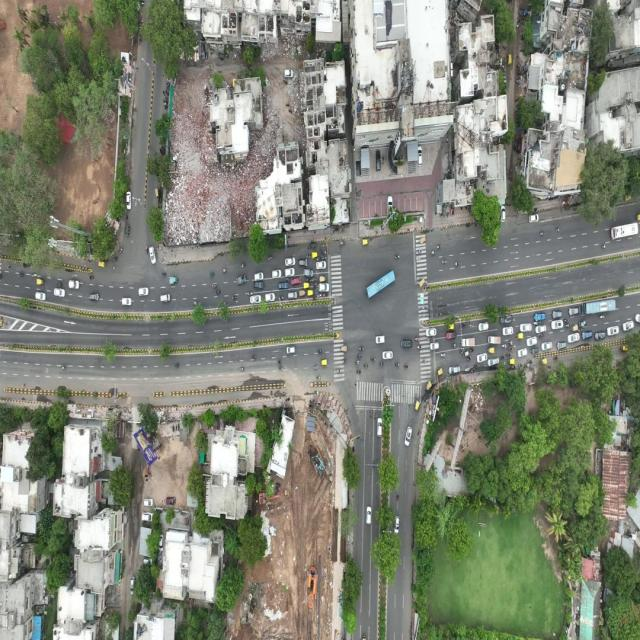3W: (36, 276, 45, 286), (360, 236, 369, 246), (168, 276, 177, 286), (425, 380, 432, 392), (486, 346, 496, 354), (320, 357, 328, 367), (154, 187, 160, 200), (515, 332, 524, 340), (414, 400, 420, 412), (125, 224, 130, 237), (570, 324, 578, 332), (97, 260, 106, 267), (340, 343, 347, 352), (437, 367, 444, 376), (419, 235, 426, 244), (579, 321, 588, 328), (619, 345, 628, 352), (507, 358, 515, 365), (530, 347, 538, 354), (302, 282, 310, 289), (319, 275, 326, 283), (539, 358, 548, 364), (419, 278, 425, 287), (307, 289, 314, 296), (298, 290, 306, 296), (312, 252, 318, 260), (310, 243, 317, 249), (448, 324, 454, 329)
Bus: (366, 270, 395, 298), (580, 298, 616, 315), (610, 222, 639, 242)
Cars: (404, 424, 413, 447), (499, 313, 513, 325), (125, 190, 132, 212), (149, 245, 156, 266), (499, 205, 506, 226), (568, 332, 580, 344), (236, 273, 247, 286), (606, 325, 619, 336), (138, 286, 151, 297), (375, 334, 386, 346), (622, 320, 634, 331), (528, 213, 540, 224), (381, 350, 394, 360), (423, 327, 436, 337), (487, 357, 500, 367), (533, 312, 546, 322), (366, 505, 372, 526), (518, 323, 532, 332), (476, 352, 487, 363), (318, 282, 330, 292), (250, 294, 262, 304), (400, 338, 412, 348), (448, 364, 460, 374), (478, 320, 488, 332), (502, 326, 514, 336), (526, 336, 538, 346), (568, 306, 580, 316), (160, 294, 172, 304), (550, 320, 563, 329), (517, 348, 528, 358), (582, 330, 593, 340), (54, 288, 65, 298), (284, 257, 296, 266), (264, 293, 276, 302), (302, 268, 314, 277), (551, 310, 563, 319), (541, 341, 553, 350), (594, 331, 606, 340), (68, 279, 80, 288), (89, 292, 101, 301), (35, 291, 47, 300), (377, 416, 382, 437), (272, 269, 282, 279), (254, 271, 264, 281), (298, 258, 308, 268), (286, 345, 296, 355), (394, 514, 399, 534), (556, 340, 566, 350), (121, 296, 131, 306), (284, 268, 295, 277), (291, 276, 302, 285), (446, 331, 457, 340), (534, 325, 546, 333), (254, 281, 264, 290), (430, 341, 439, 351), (278, 282, 289, 290), (288, 291, 298, 299), (316, 261, 326, 269)
LCV: (461, 338, 475, 348), (488, 335, 500, 345)
M2W: (394, 252, 401, 263), (441, 257, 447, 266), (538, 229, 544, 238), (555, 225, 561, 234), (60, 364, 67, 371), (402, 364, 410, 370), (463, 350, 469, 358), (396, 493, 400, 504), (415, 336, 421, 343), (378, 361, 385, 367), (358, 345, 364, 352), (215, 289, 221, 296), (209, 271, 215, 278), (56, 282, 63, 288), (436, 242, 441, 250), (120, 245, 124, 255), (527, 358, 533, 364), (507, 347, 513, 353), (501, 343, 507, 349), (511, 364, 517, 370), (421, 358, 427, 364), (394, 362, 400, 368), (370, 356, 376, 362), (354, 360, 360, 366), (342, 358, 348, 364), (316, 375, 322, 381), (276, 359, 282, 365), (232, 294, 238, 300), (454, 262, 460, 268), (430, 250, 436, 256), (161, 272, 167, 278), (250, 354, 256, 360), (279, 295, 285, 301), (464, 366, 470, 372), (440, 353, 447, 358), (355, 370, 362, 375), (277, 366, 284, 371), (240, 263, 247, 268), (221, 268, 228, 273), (417, 248, 422, 255), (563, 318, 569, 323), (563, 323, 569, 328), (499, 355, 505, 360), (416, 345, 422, 350), (426, 337, 432, 342), (451, 343, 457, 348), (460, 323, 466, 328), (363, 363, 368, 369), (317, 348, 322, 354), (18, 273, 24, 278), (601, 243, 606, 249), (89, 275, 94, 281), (339, 241, 345, 246), (466, 356, 472, 361), (508, 340, 513, 345), (312, 285, 317, 290), (599, 315, 605, 319), (356, 354, 362, 358), (313, 366, 319, 370), (240, 368, 246, 372), (247, 292, 253, 296), (268, 256, 272, 262), (311, 277, 317, 281), (320, 249, 324, 255), (316, 294, 322, 298), (145, 247, 148, 254), (517, 363, 522, 367), (336, 369, 341, 373), (322, 256, 327, 260), (322, 293, 327, 297), (469, 348, 474, 352), (459, 349, 464, 353), (175, 364, 181, 367), (305, 255, 311, 258), (285, 277, 289, 281)
